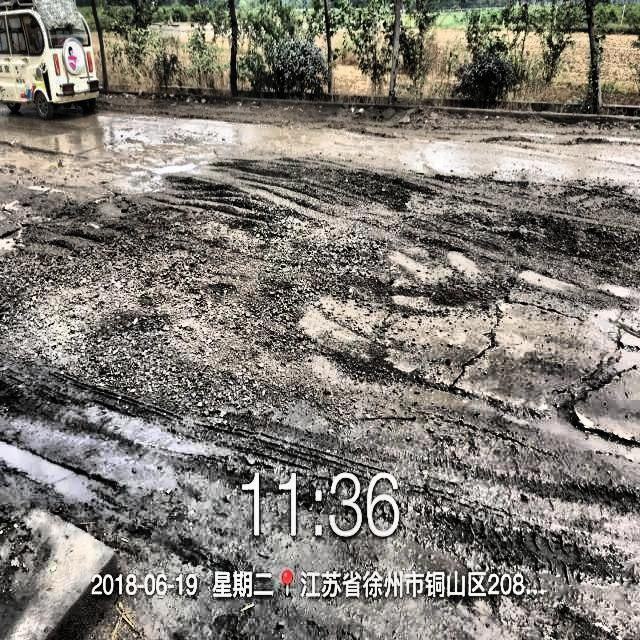buraco: (16, 130, 640, 444)
